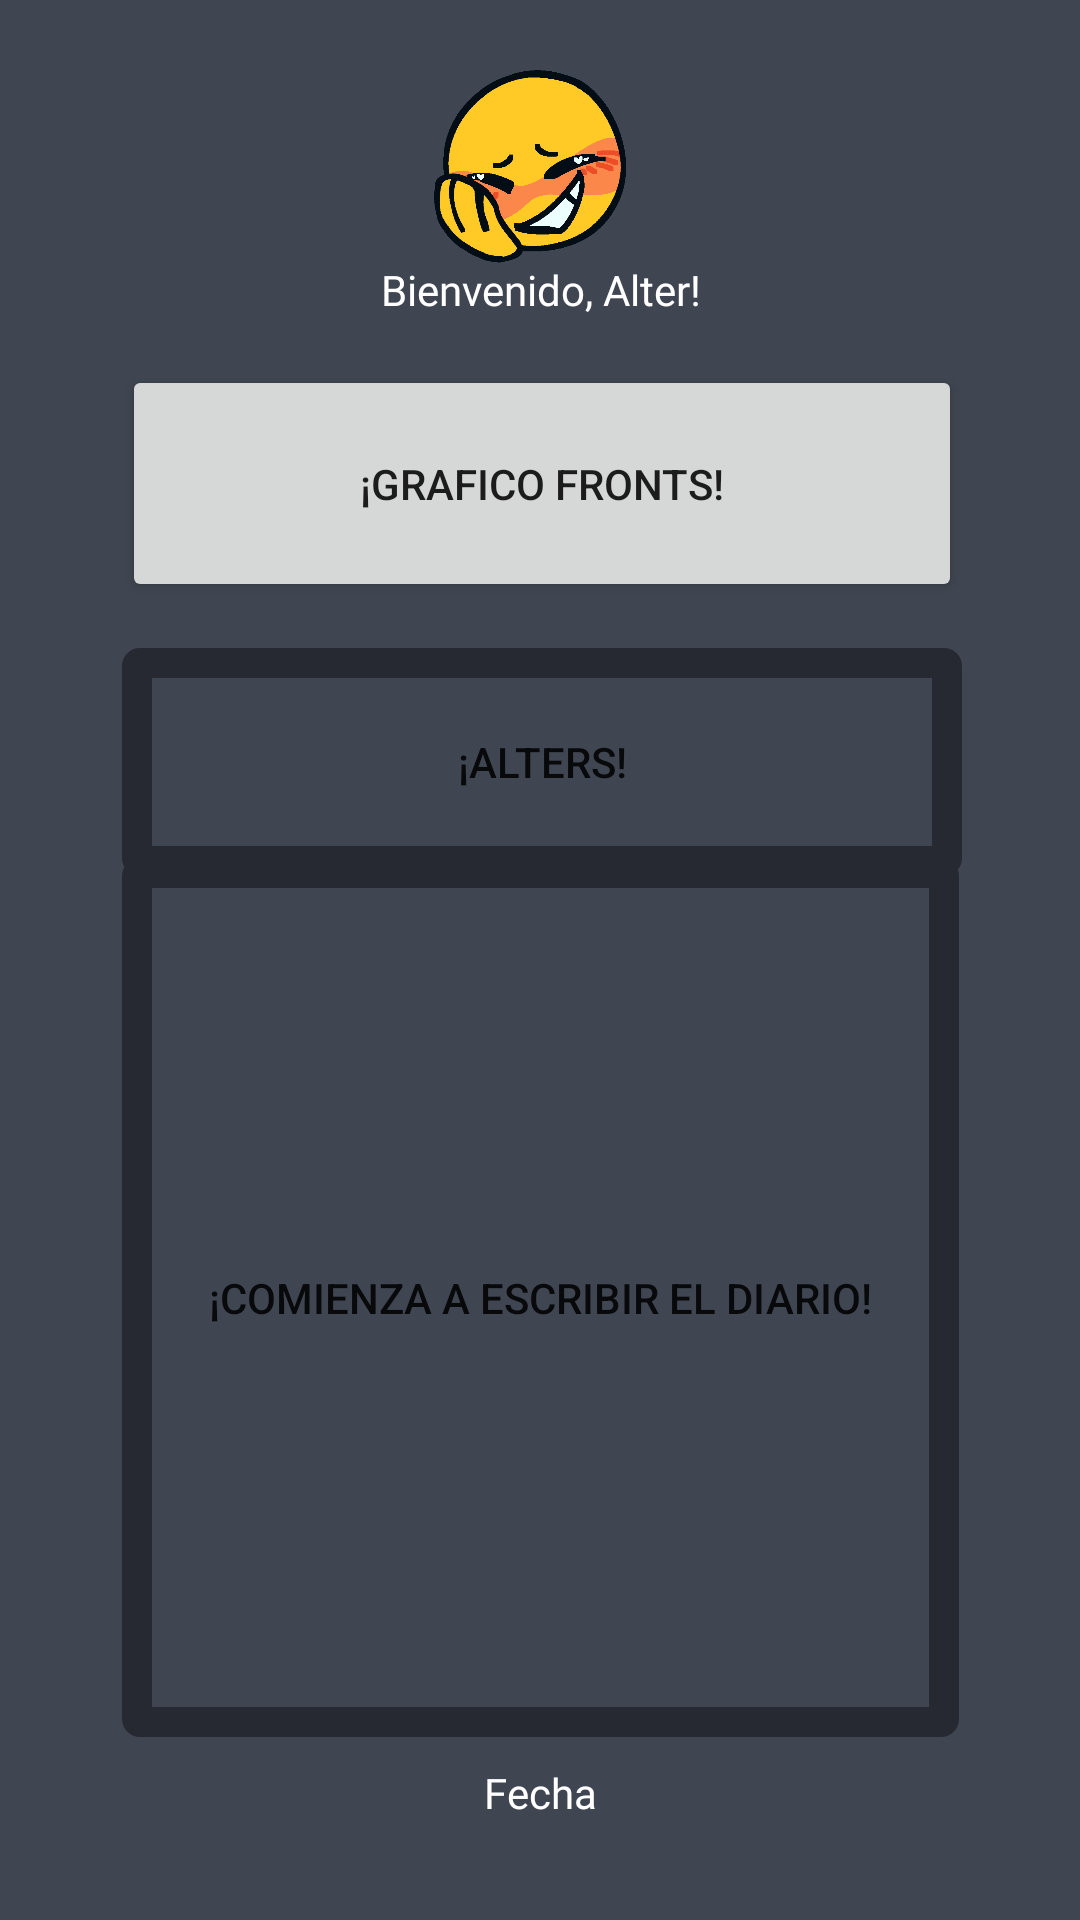

Icons on this 1080px x 1920px Android screen, each with the point to tap as point (x, y):
cursed emoji hd quality: point (530, 166)
